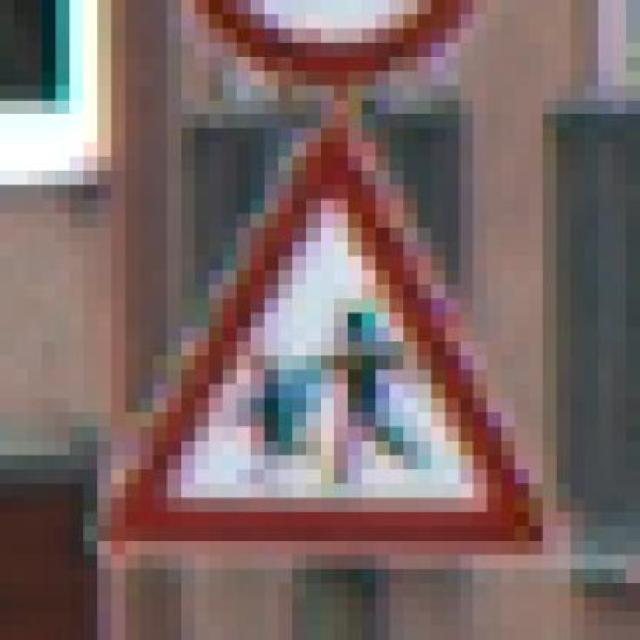Beware of children: (69, 114, 557, 569)
